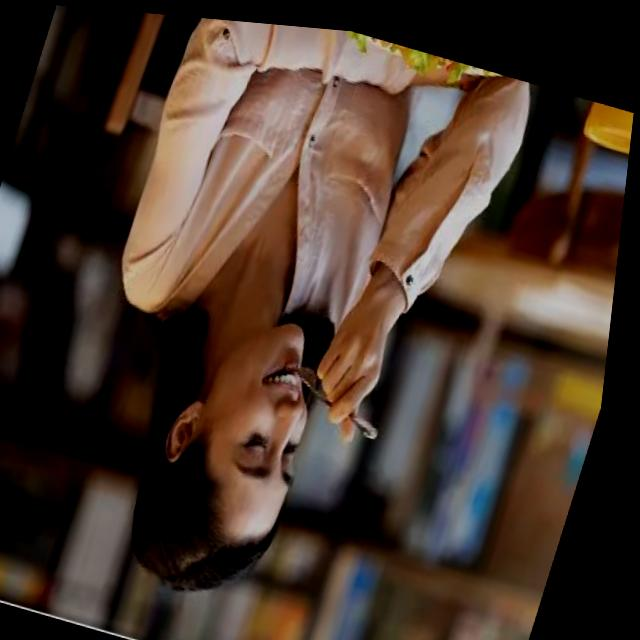eating-person: (21, 5, 551, 640)
